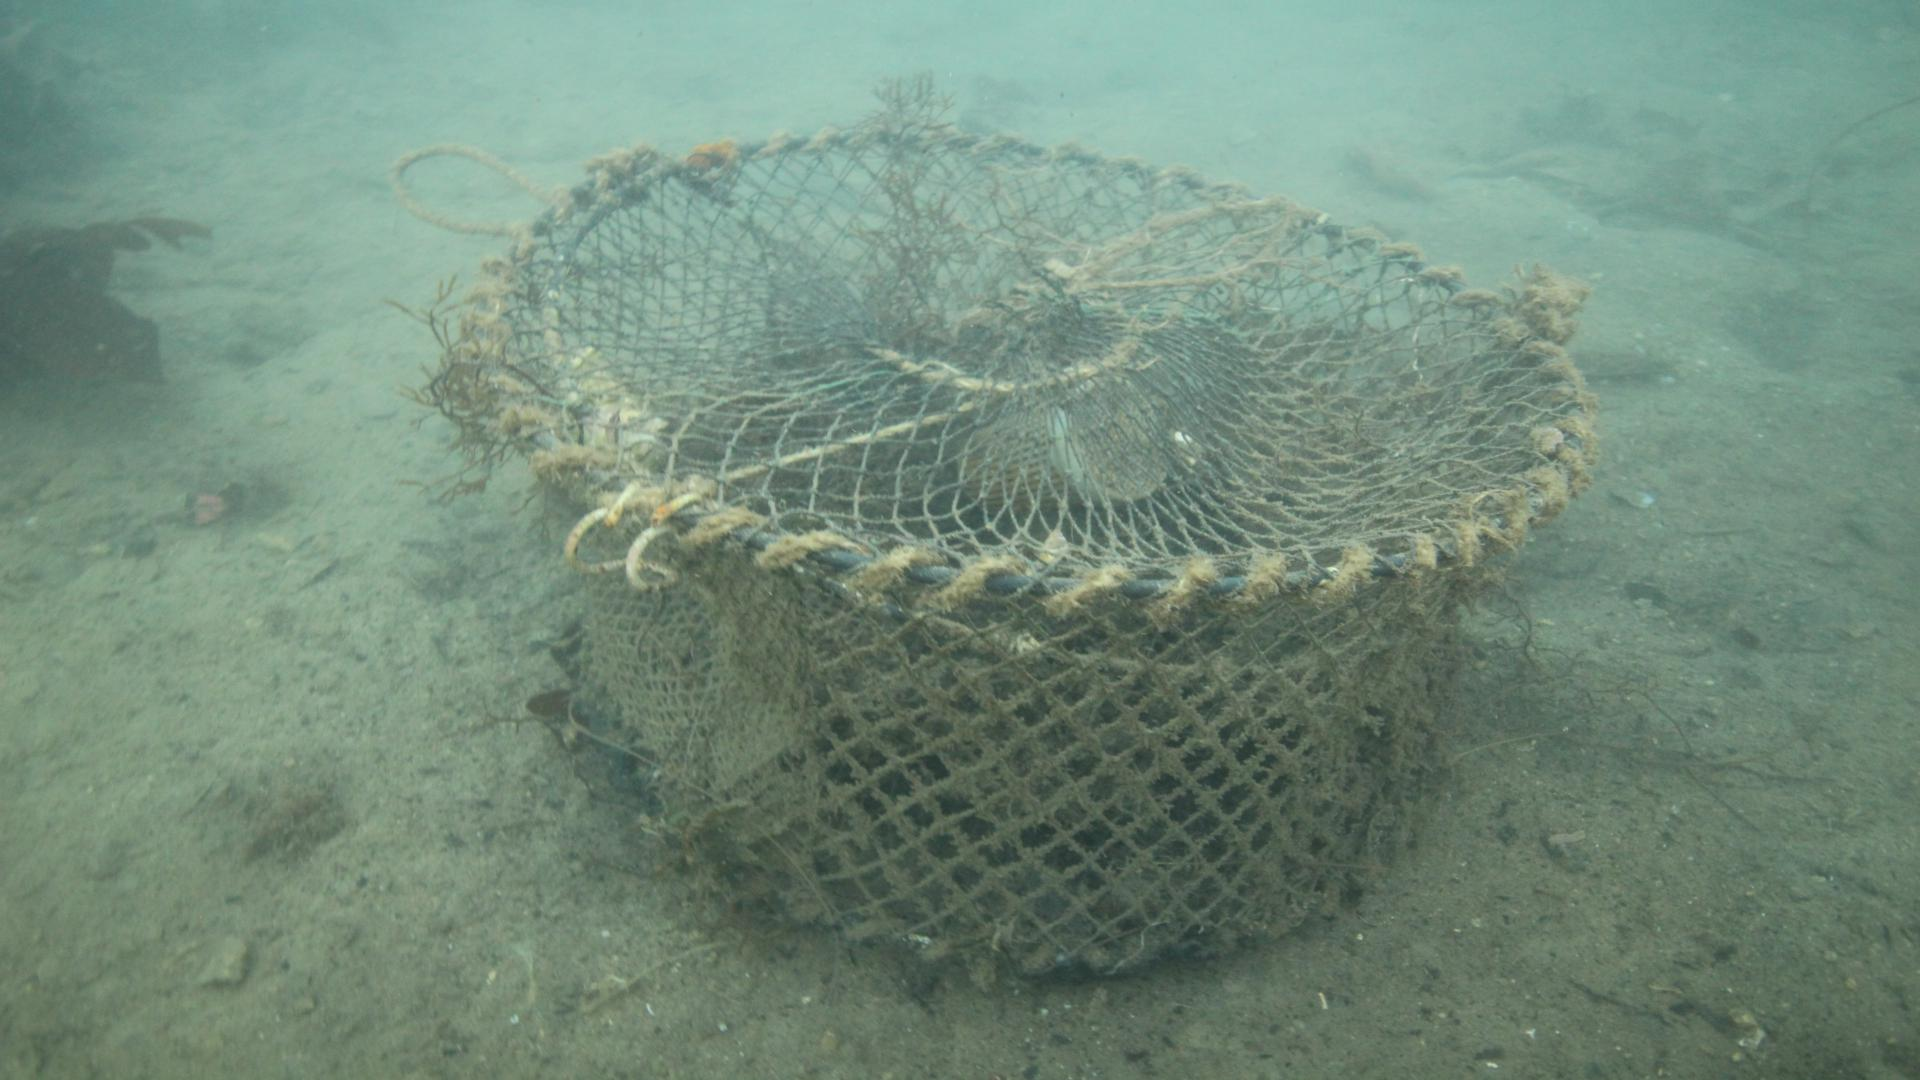circular fish trap: (452, 120, 1598, 977)
rope: (381, 136, 563, 236)
